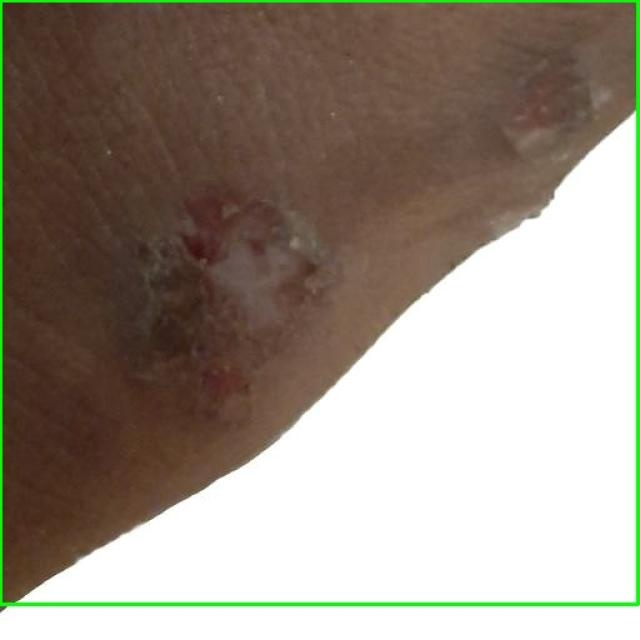Eczema: (0, 0, 639, 605)
